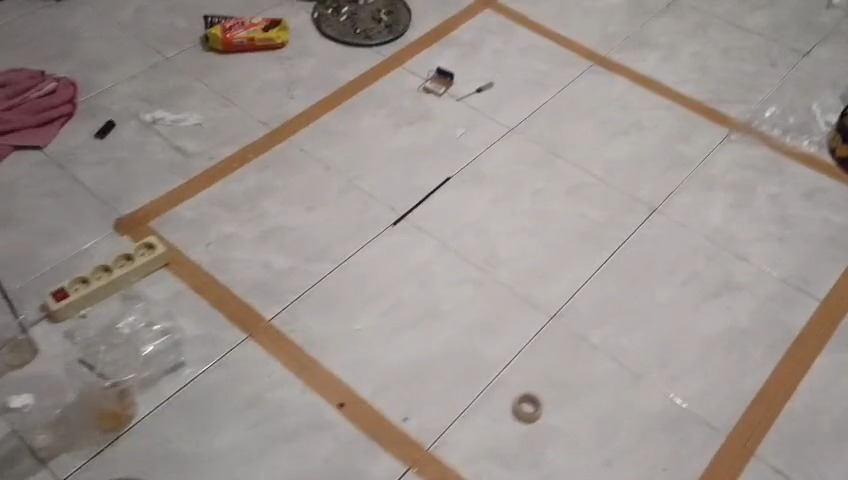floor marking: (114, 0, 847, 240), (163, 237, 463, 479), (699, 267, 847, 479)
